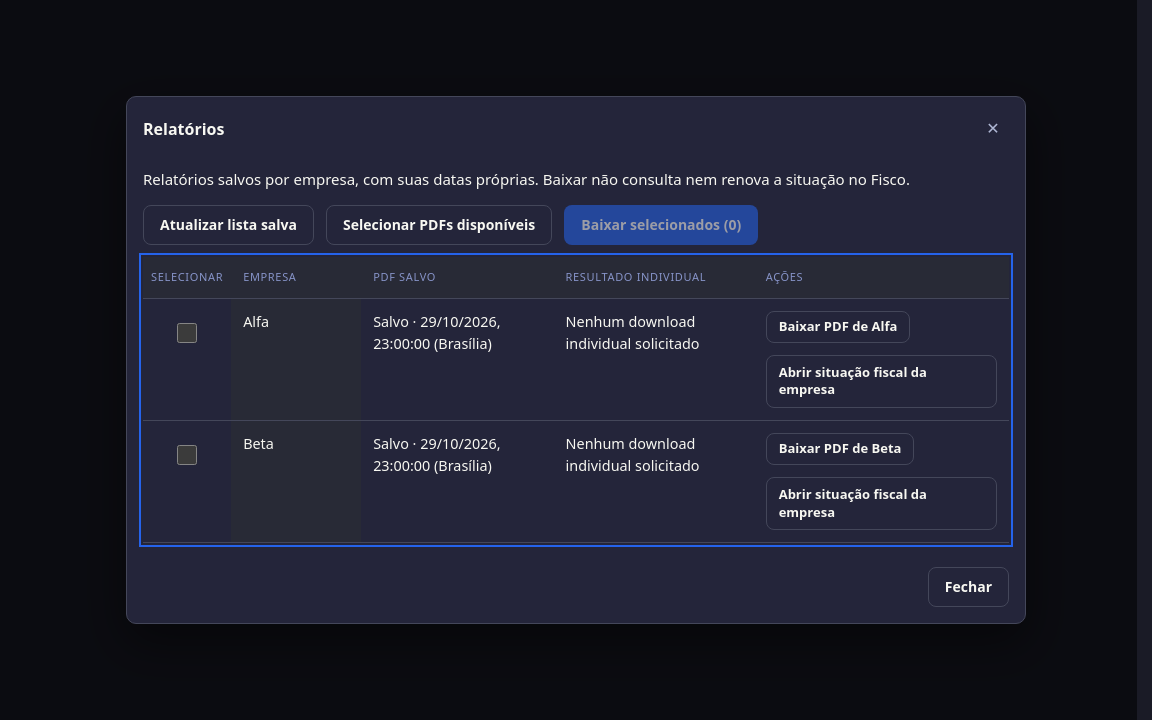
Scenario: download individual autenticado relata falha sem consultar Fisco
This screenshot has width=1152, height=720.
Click the button "Selecionar PDFs disponíveis": (439, 225) [326,205,552,245]
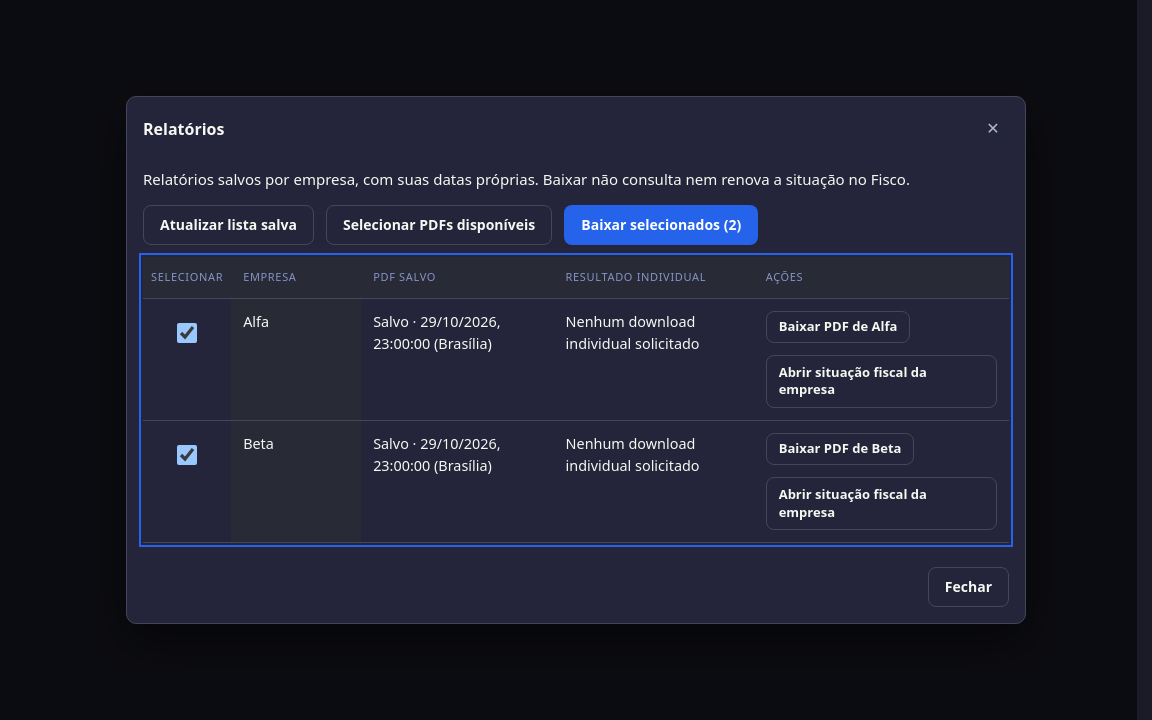
Click the button "Baixar PDF de Alfa": (838, 327) [766,311,910,343]
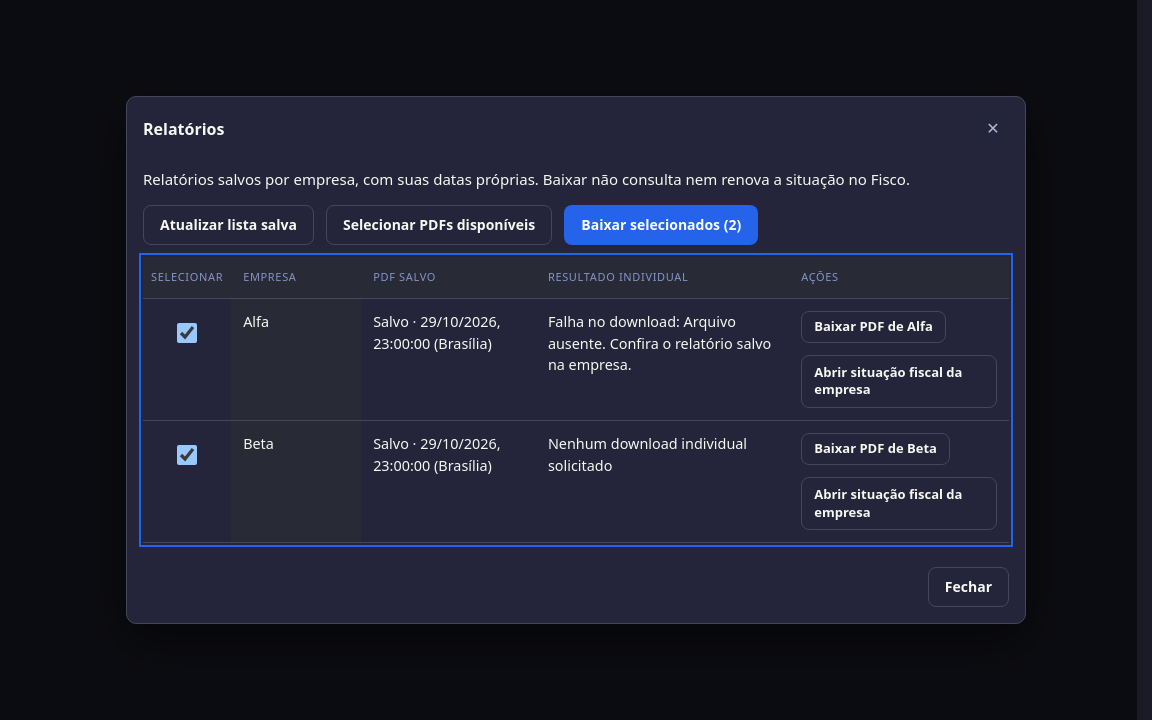
Check: the text "Falha no download: Arquivo ausente" is shown, box [548,312,771,374]
